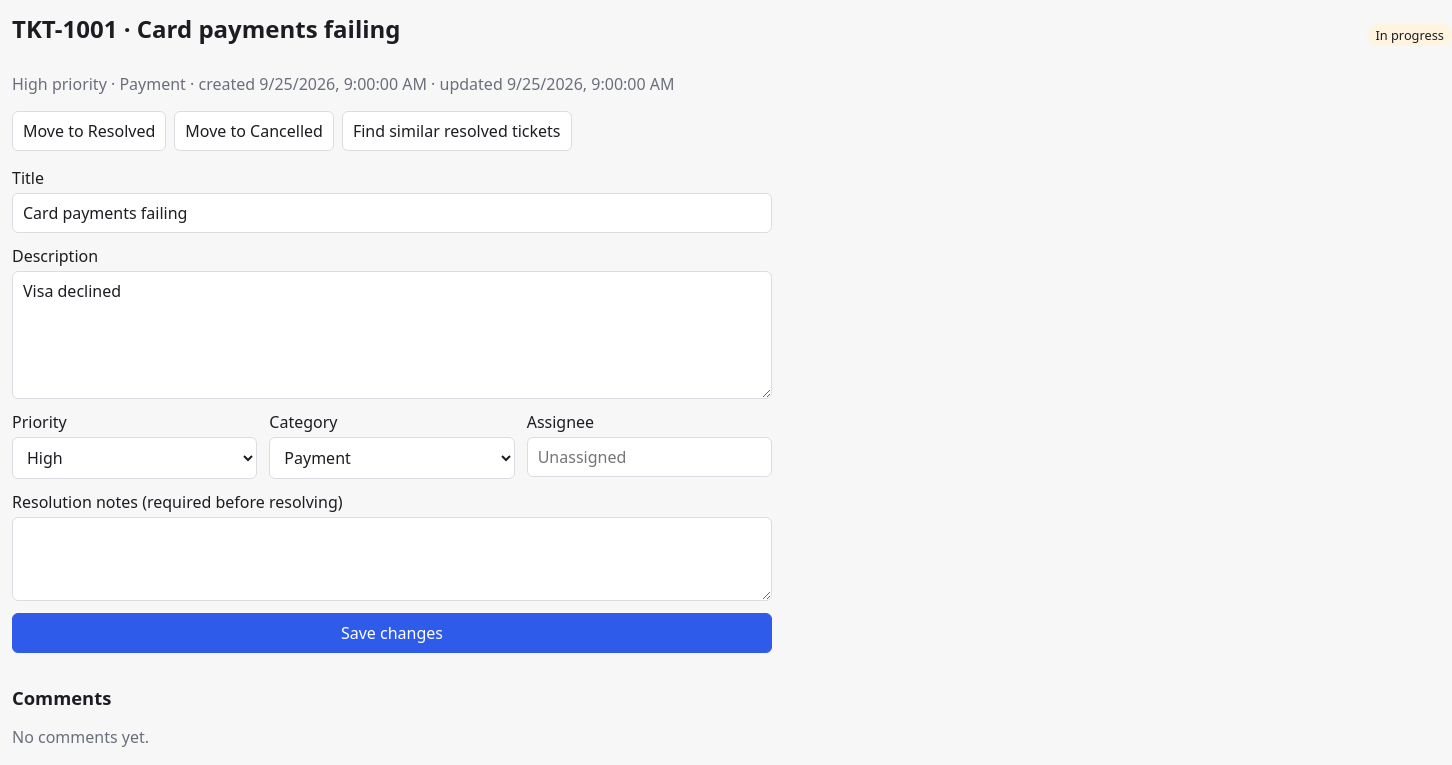
TicketDetailPage › shows the server message when a transition is rejected (AC-10, AC-13)
Click the button "Move to Resolved": {"x": 89, "y": 131} [12, 111, 166, 151]
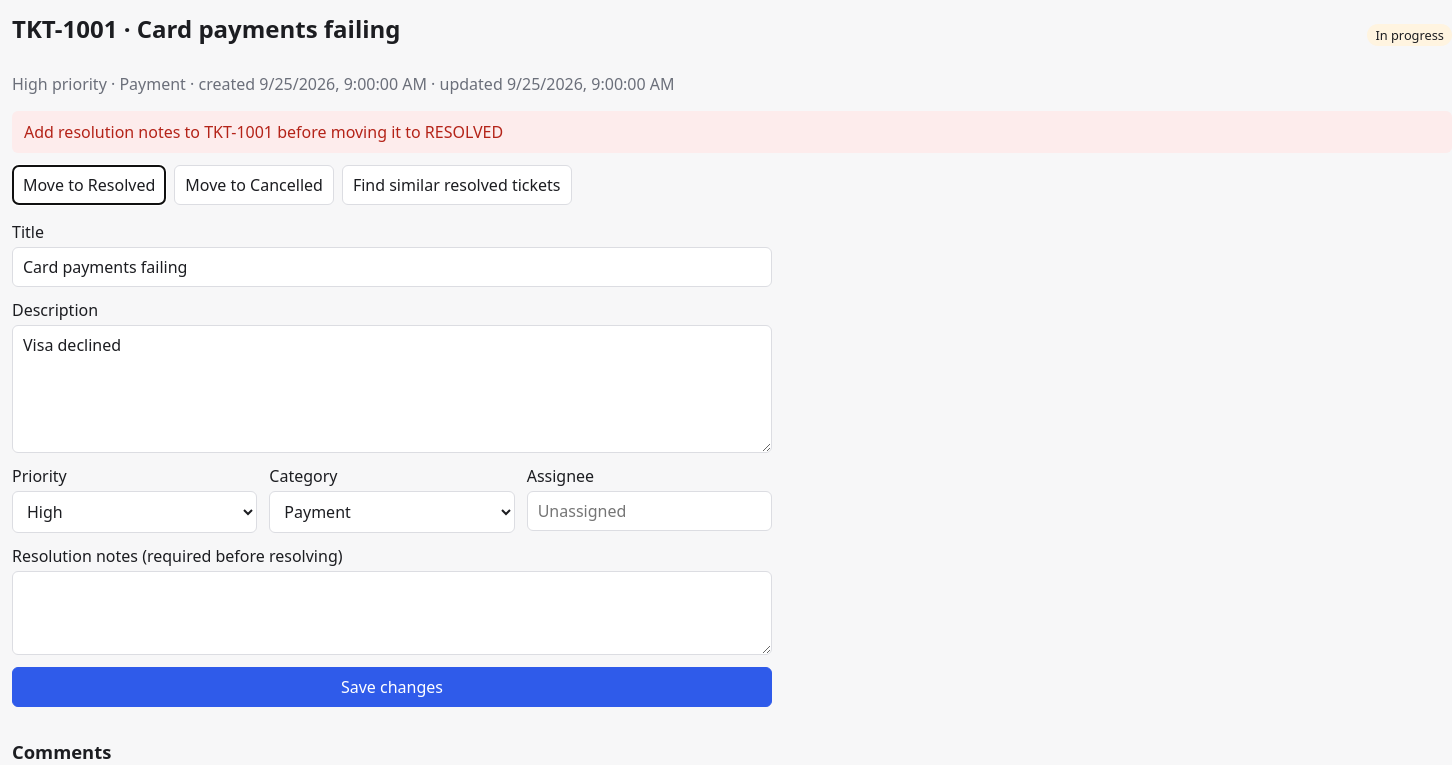
Result: the message reads "Add resolution notes to TKT-1001 before moving it to RESOLVED" at [24, 121, 503, 143]
